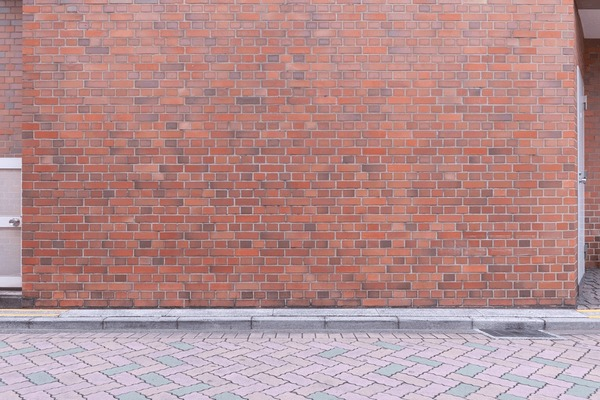Wall: (29, 7, 571, 302)
